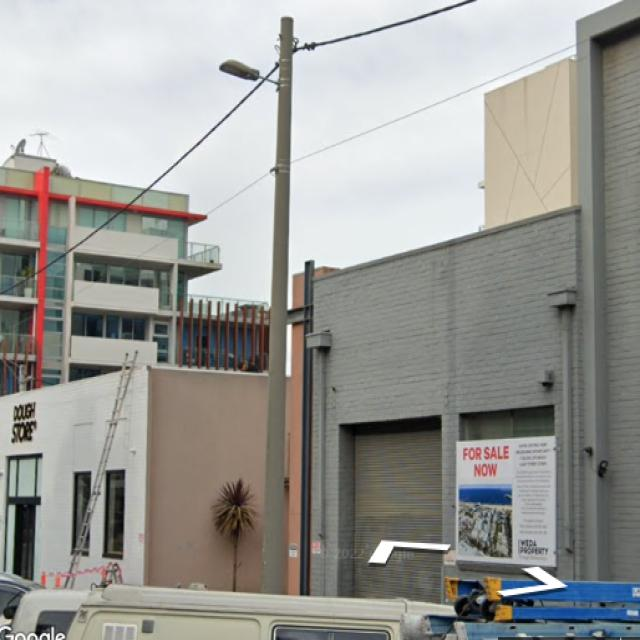concrete-pole: (260, 14, 295, 594)
streetlight: (217, 58, 281, 89)
